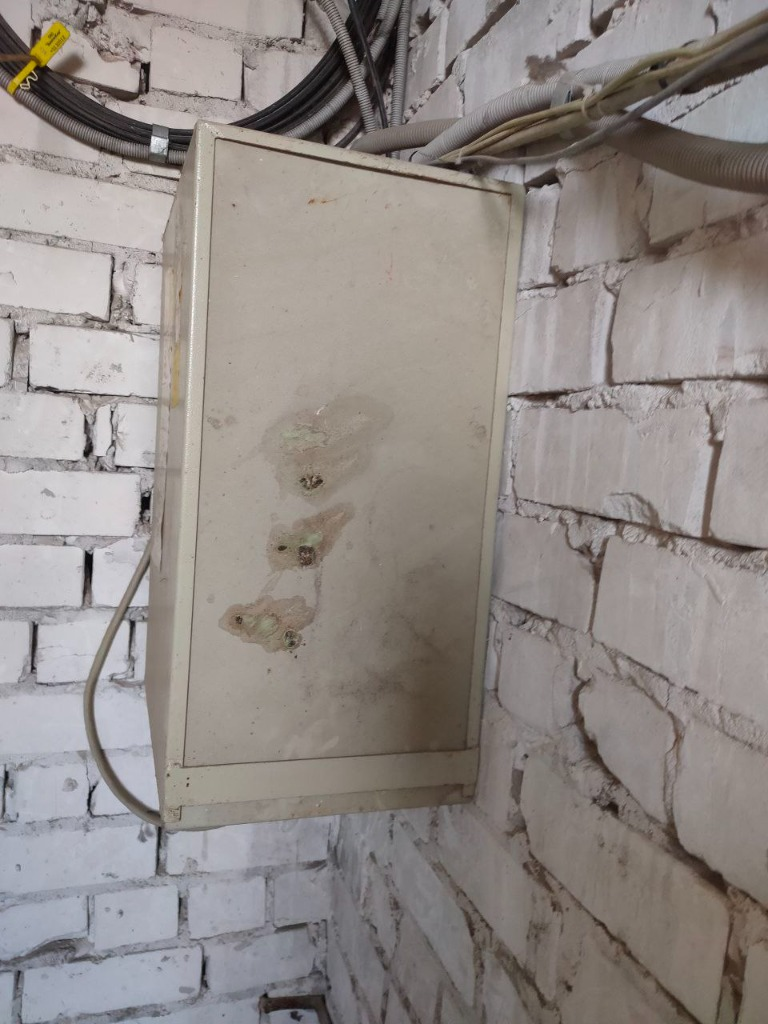sv-5: (135, 118, 530, 835)
